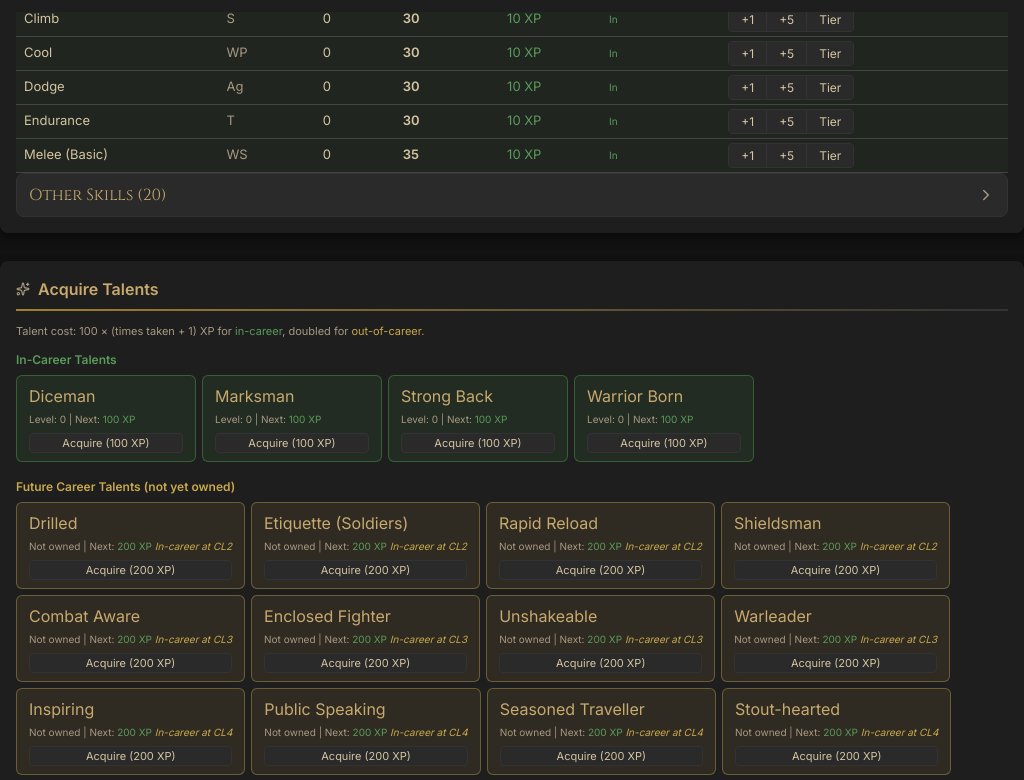
Scenario: AdvancementPage tooltip behavior › clicking the same talent name again closes the tooltip (toggle) (Req 1.4)
The width and height of the screenshot is (1024, 780).
Step 1. Click the button "Marksman" → click(292, 396), box [215,384,369,408]
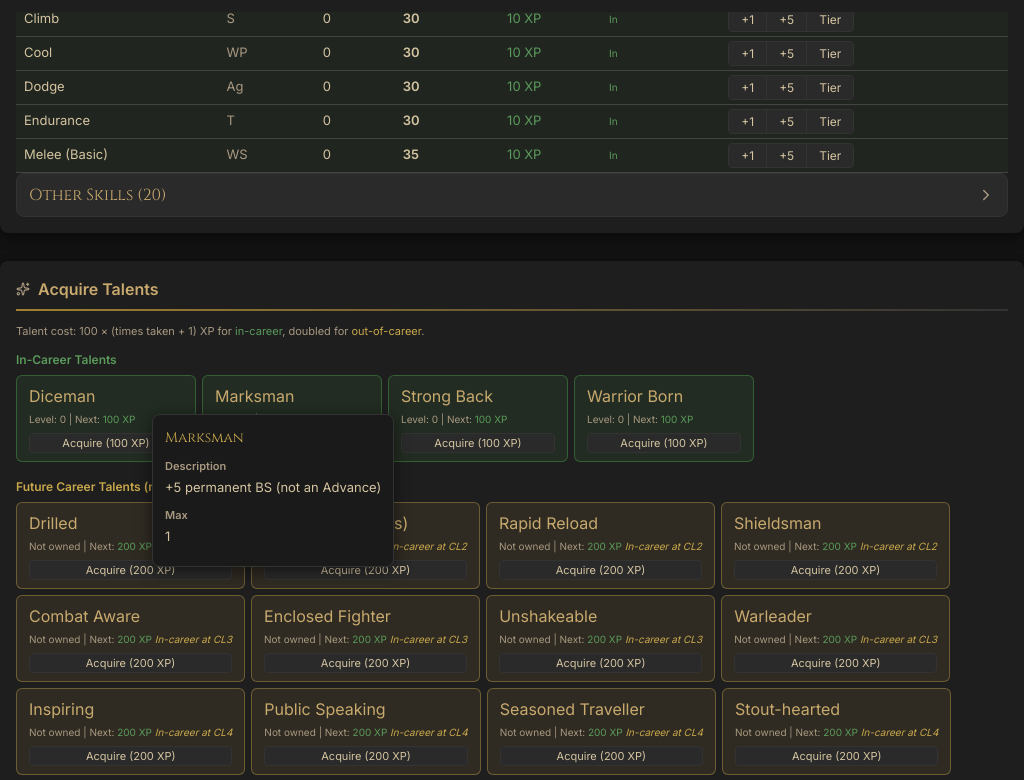
Now the tooltip "Marksman Description +5 permanent BS (not an Advance) Max 1" is shown, box [152,414,394,567]
Step 2. Click the button "Marksman" → click(292, 396), box [215,384,369,408]
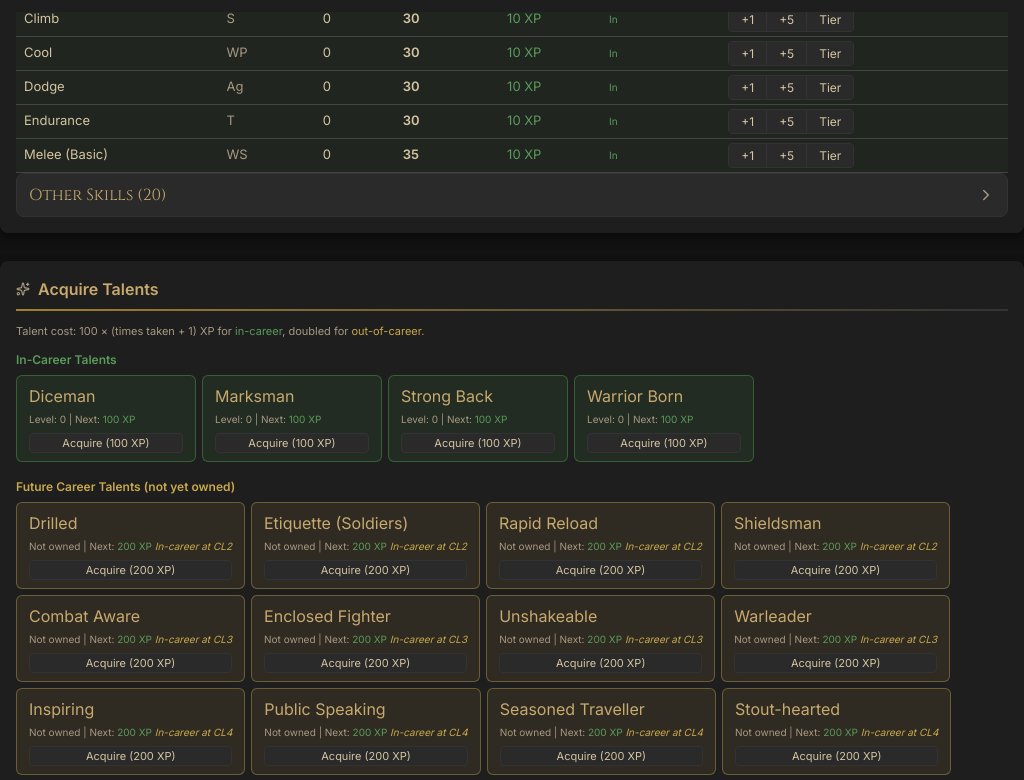
Now the tooltip "Marksman Description +5 permanent BS (not an Advance) Max 1" is gone
